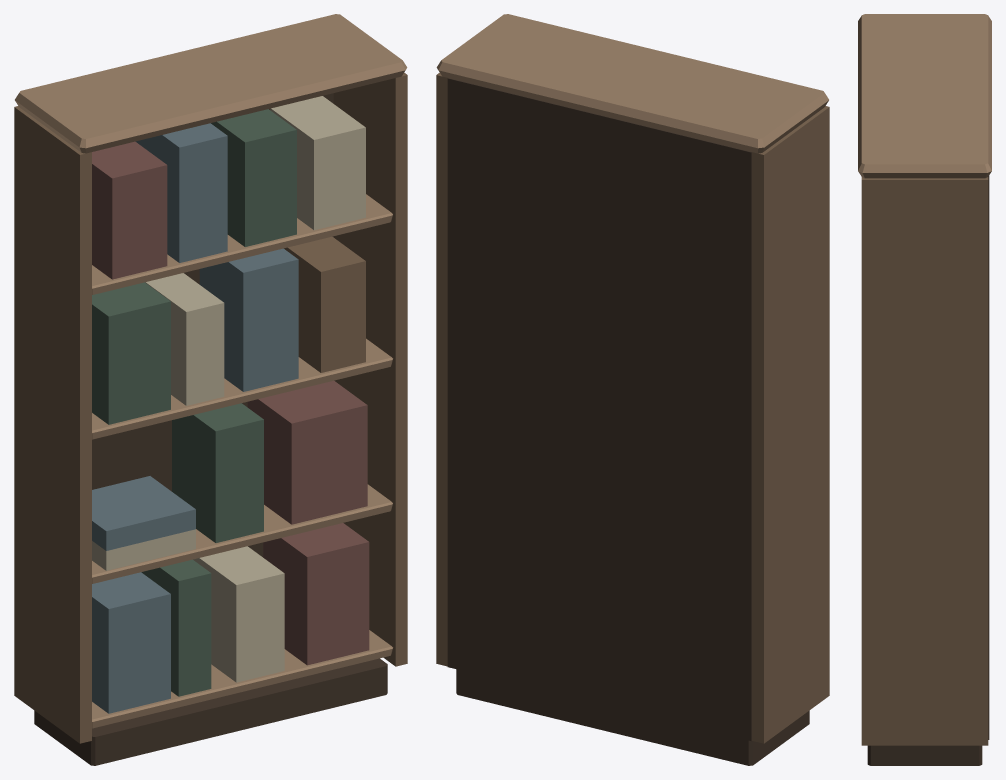
The model's file is Gazette_Bookshelf.fbx.
3 views of the same model, side by side, from view 1: azimuth 30°, elevation 25°; view 2: azimuth 150°, elevation 25°; view 3: azimuth 270°, elevation 25° (orthographic). The views are drawn at different scales.
Parts seen in each view (by area): view 1: Gazette_Bookshelf; view 2: Gazette_Bookshelf; view 3: Gazette_Bookshelf.
Boxes of the visible parts, <box> form: Gazette_Bookshelf: <box>14,14,407,765</box>; Gazette_Bookshelf: <box>436,14,829,765</box>; Gazette_Bookshelf: <box>858,14,991,765</box>.
Size of the model in its own units: 0.95 by 1.75 by 0.35.
